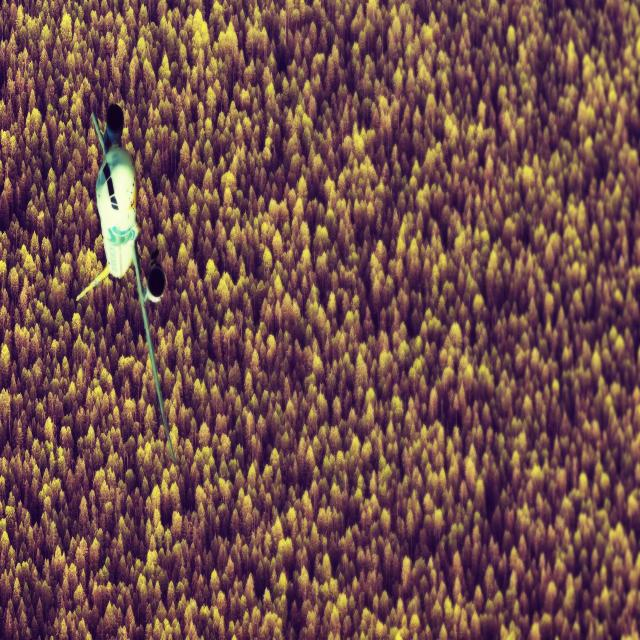airplane: (75, 102, 176, 463)
